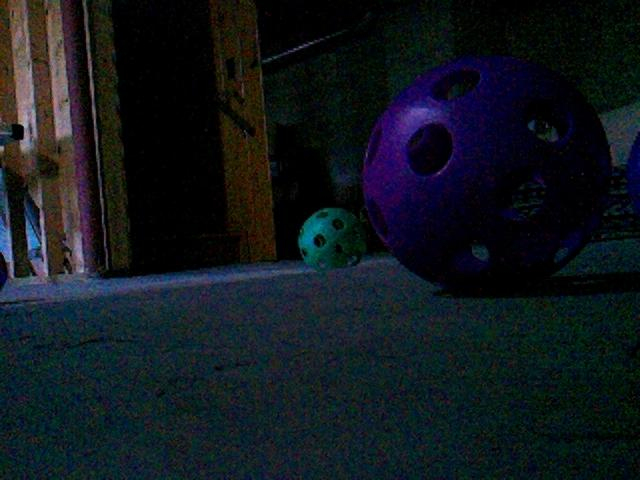Green: (297, 206, 367, 270)
Purple: (358, 57, 615, 288), (625, 133, 640, 246)
